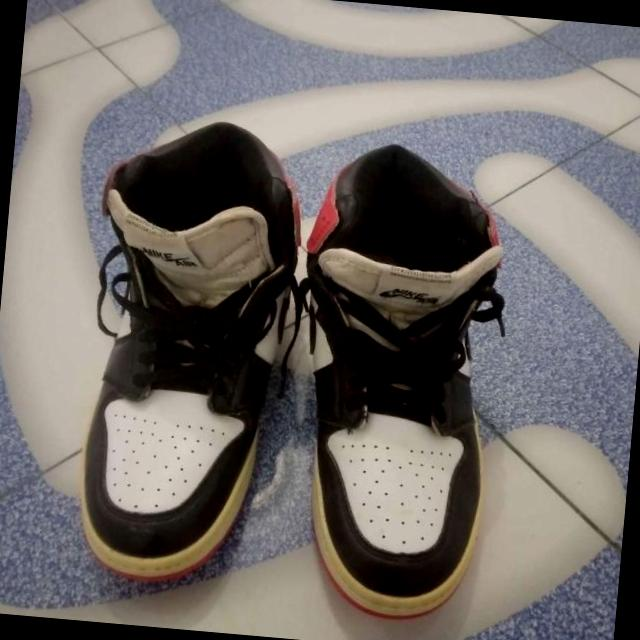nike_fake_jordan: (61, 112, 330, 594), (276, 134, 518, 625)
